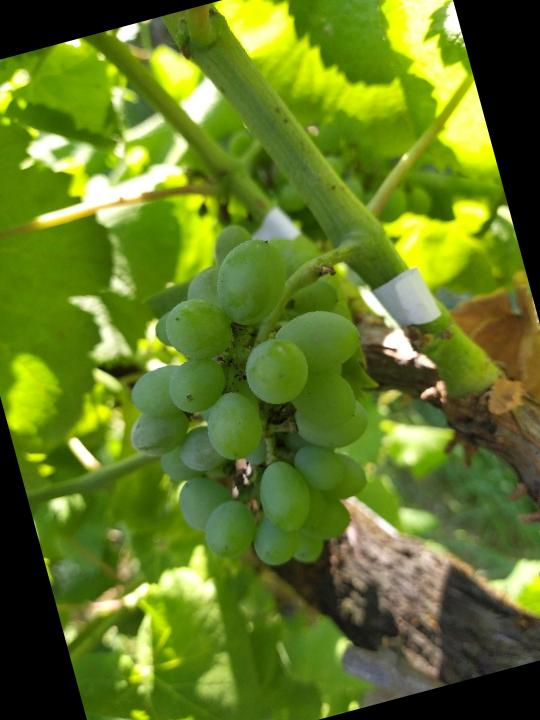grape: (73, 191, 420, 606)
